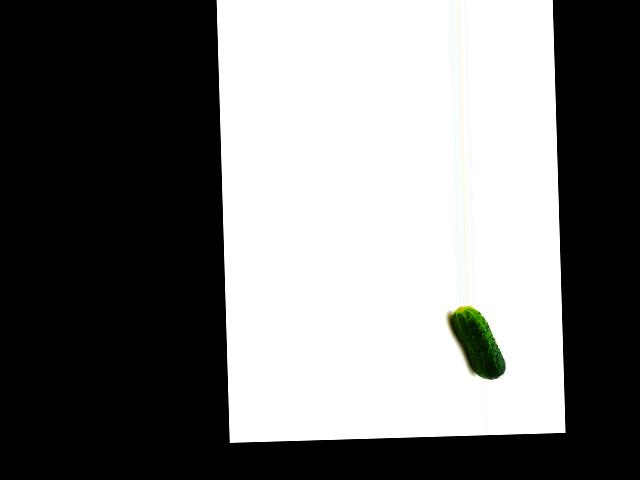cucumber: (451, 304, 505, 380)
